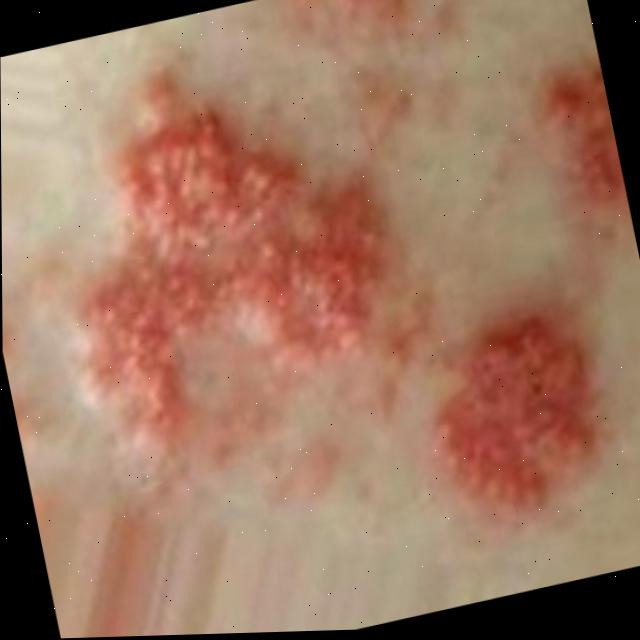Shingles: (26, 0, 640, 608)
